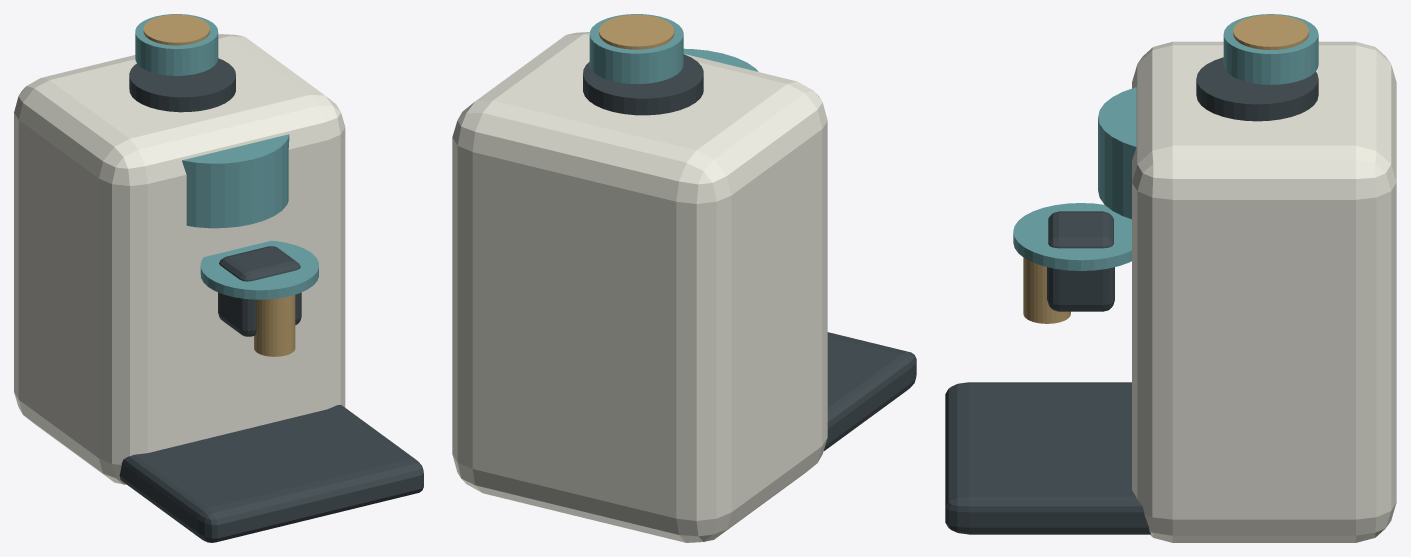
Rendered from coffee-corner-forest-machine.glb.
3 renders of one model, left to right at view 1: azimuth 30°, elevation 25°; view 2: azimuth 150°, elevation 25°; view 3: azimuth 270°, elevation 25°, orthographic. The views are drawn at different scales.
Parts seen in each view (by area): view 1: MachineBody, DripTray, WaterTank, Capsule, TopDial, FrontRing, SpoutBlock, Spout; view 2: MachineBody, DripTray, Capsule, TopDial, WaterTank; view 3: MachineBody, DripTray, Capsule, SpoutBlock, TopDial, FrontRing, WaterTank, Spout.
Part boxes in pixels (x1,y1,x2,y2): MachineBody: (14, 34, 345, 484); DripTray: (119, 405, 423, 542); WaterTank: (182, 134, 289, 228); Capsule: (135, 14, 218, 75); TopDial: (129, 58, 235, 112); FrontRing: (200, 240, 318, 299); SpoutBlock: (218, 246, 301, 336); Spout: (254, 295, 295, 356); MachineBody: (452, 32, 827, 542); DripTray: (824, 332, 916, 450); Capsule: (589, 14, 683, 84); TopDial: (583, 54, 703, 115); WaterTank: (683, 48, 758, 71); MachineBody: (1132, 41, 1396, 542); DripTray: (945, 382, 1150, 534); Capsule: (1223, 14, 1318, 84); SpoutBlock: (1047, 211, 1114, 311); TopDial: (1196, 57, 1318, 121); FrontRing: (1013, 203, 1131, 270); WaterTank: (1098, 87, 1136, 219); Spout: (1023, 257, 1070, 323).
Size of the model in its own units: 0.94 by 1.49 by 1.33.
